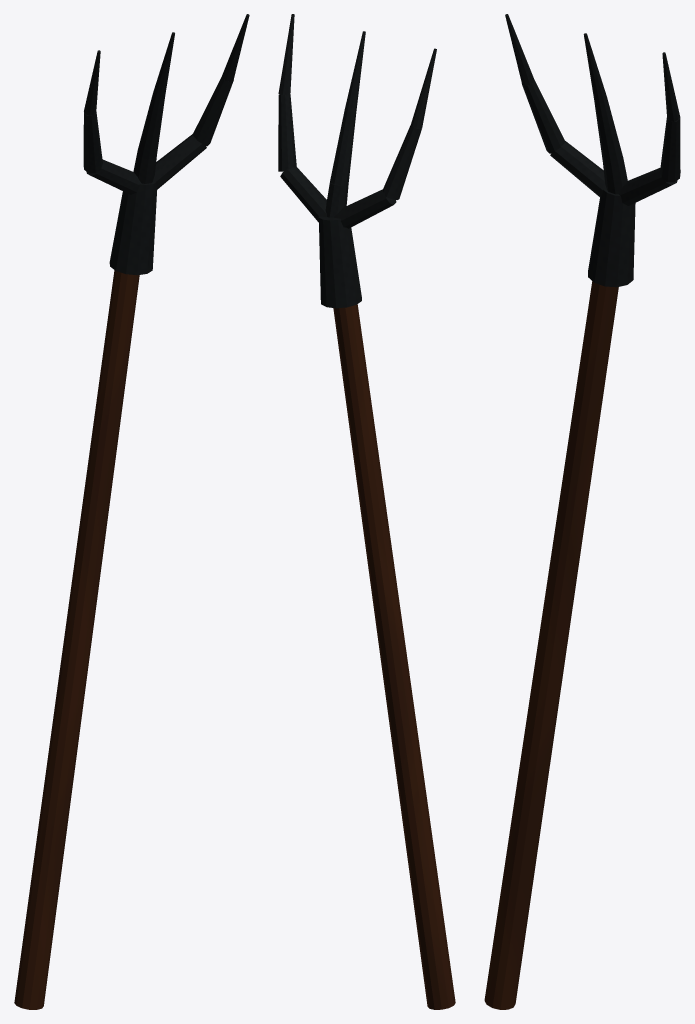
File: pitchfork.glb
The picture shows the model from 3 angles, left to right: view 1: azimuth 30°, elevation 25°; view 2: azimuth 150°, elevation 25°; view 3: azimuth 330°, elevation 25°; orthographic projection. The views are drawn at different scales.
Visible parts, largest first — view 1: AshShaft, Socket, ForkBranch2, TineLower2, TineLower1, TineLower0, ForkBranch0, TineTip2, TineTip1, TineTip0; view 2: AshShaft, Socket, TineLower0, TineLower2, TineLower1, ForkBranch2, ForkBranch0, TineTip0, TineTip2, TineTip1, ForkBranch1; view 3: AshShaft, Socket, ForkBranch0, TineLower0, TineLower1, TineLower2, ForkBranch2, TineTip0, TineTip1, TineTip2, ForkBranch1.
Part boxes in pixels (x1,y1,x2,y2): AshShaft: (14,270,139,1009); Socket: (109,182,157,275); ForkBranch2: (153,134,206,189); TineLower2: (193,76,233,146); TineLower1: (137,94,165,159); TineLower0: (83,112,102,173); ForkBranch0: (86,159,141,194); TineTip2: (222,14,249,81); TineTip1: (153,32,174,98); TineTip0: (84,50,100,115); AshShaft: (333,304,455,1009); Socket: (318,216,361,308); TineLower0: (383,125,421,199); TineLower2: (278,94,296,171); TineLower1: (330,110,356,185); ForkBranch2: (280,167,326,222); ForkBranch0: (334,189,396,228); TineTip0: (410,48,436,128); TineTip2: (278,14,294,95); TineTip1: (344,31,365,111); ForkBranch1: (325,183,348,217); AshShaft: (484,281,618,1009); Socket: (588,189,635,287); ForkBranch0: (550,141,606,197); TineLower0: (521,80,564,153); TineLower1: (594,97,623,167); TineLower2: (660,117,680,182); ForkBranch2: (618,168,677,205); TineTip0: (505,14,534,85); TineTip1: (583,33,606,103); TineTip2: (662,52,680,121); ForkBranch1: (603,159,627,194).
Size of the model in its own units: 0.4375 by 2.02 by 0.1685.
2 materials, 2 textured.
